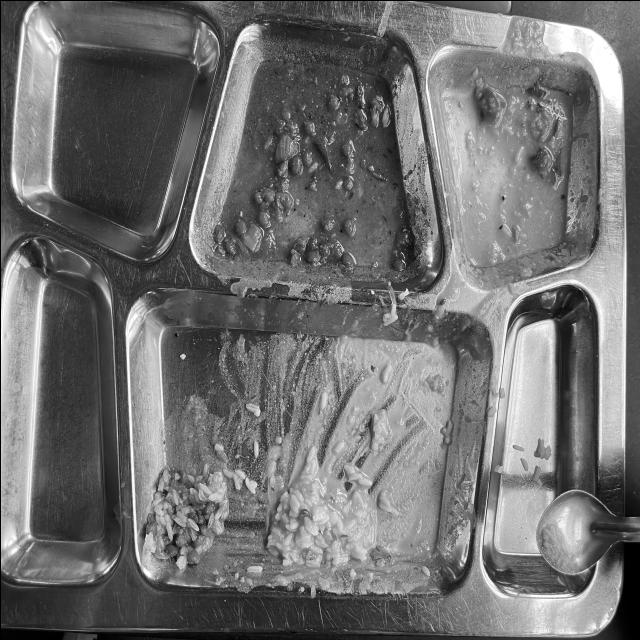Empty-Plate: (8, 23, 612, 616)
